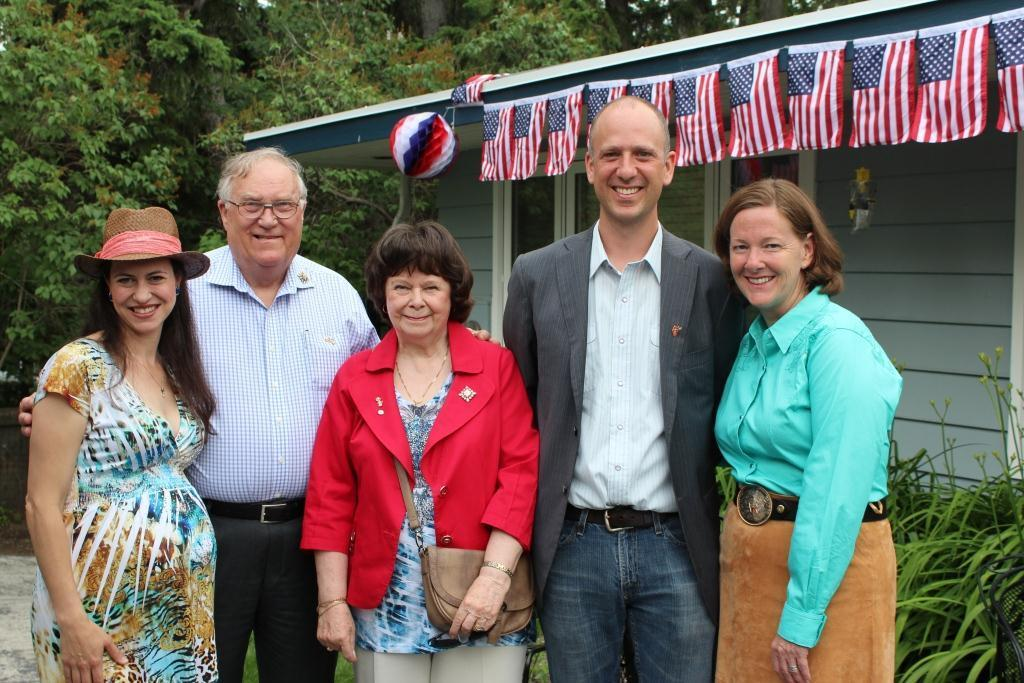Hat: (73, 208, 211, 280)
